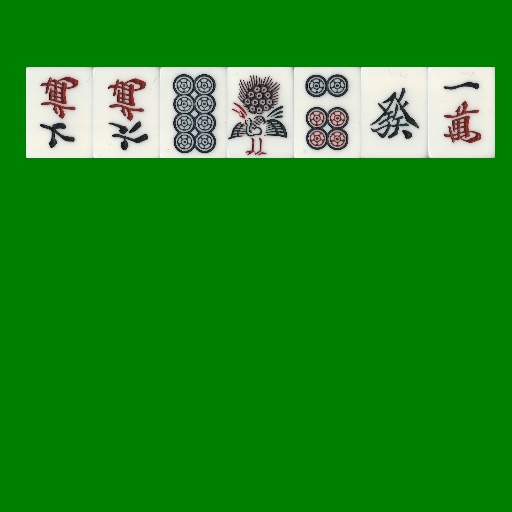1m: (428, 67, 495, 158)
1s: (227, 67, 294, 158)
6m: (93, 67, 160, 158)
6p: (294, 67, 361, 158)
7m: (26, 67, 93, 158)
8p: (160, 67, 227, 158)
hatsu: (361, 67, 428, 158)
